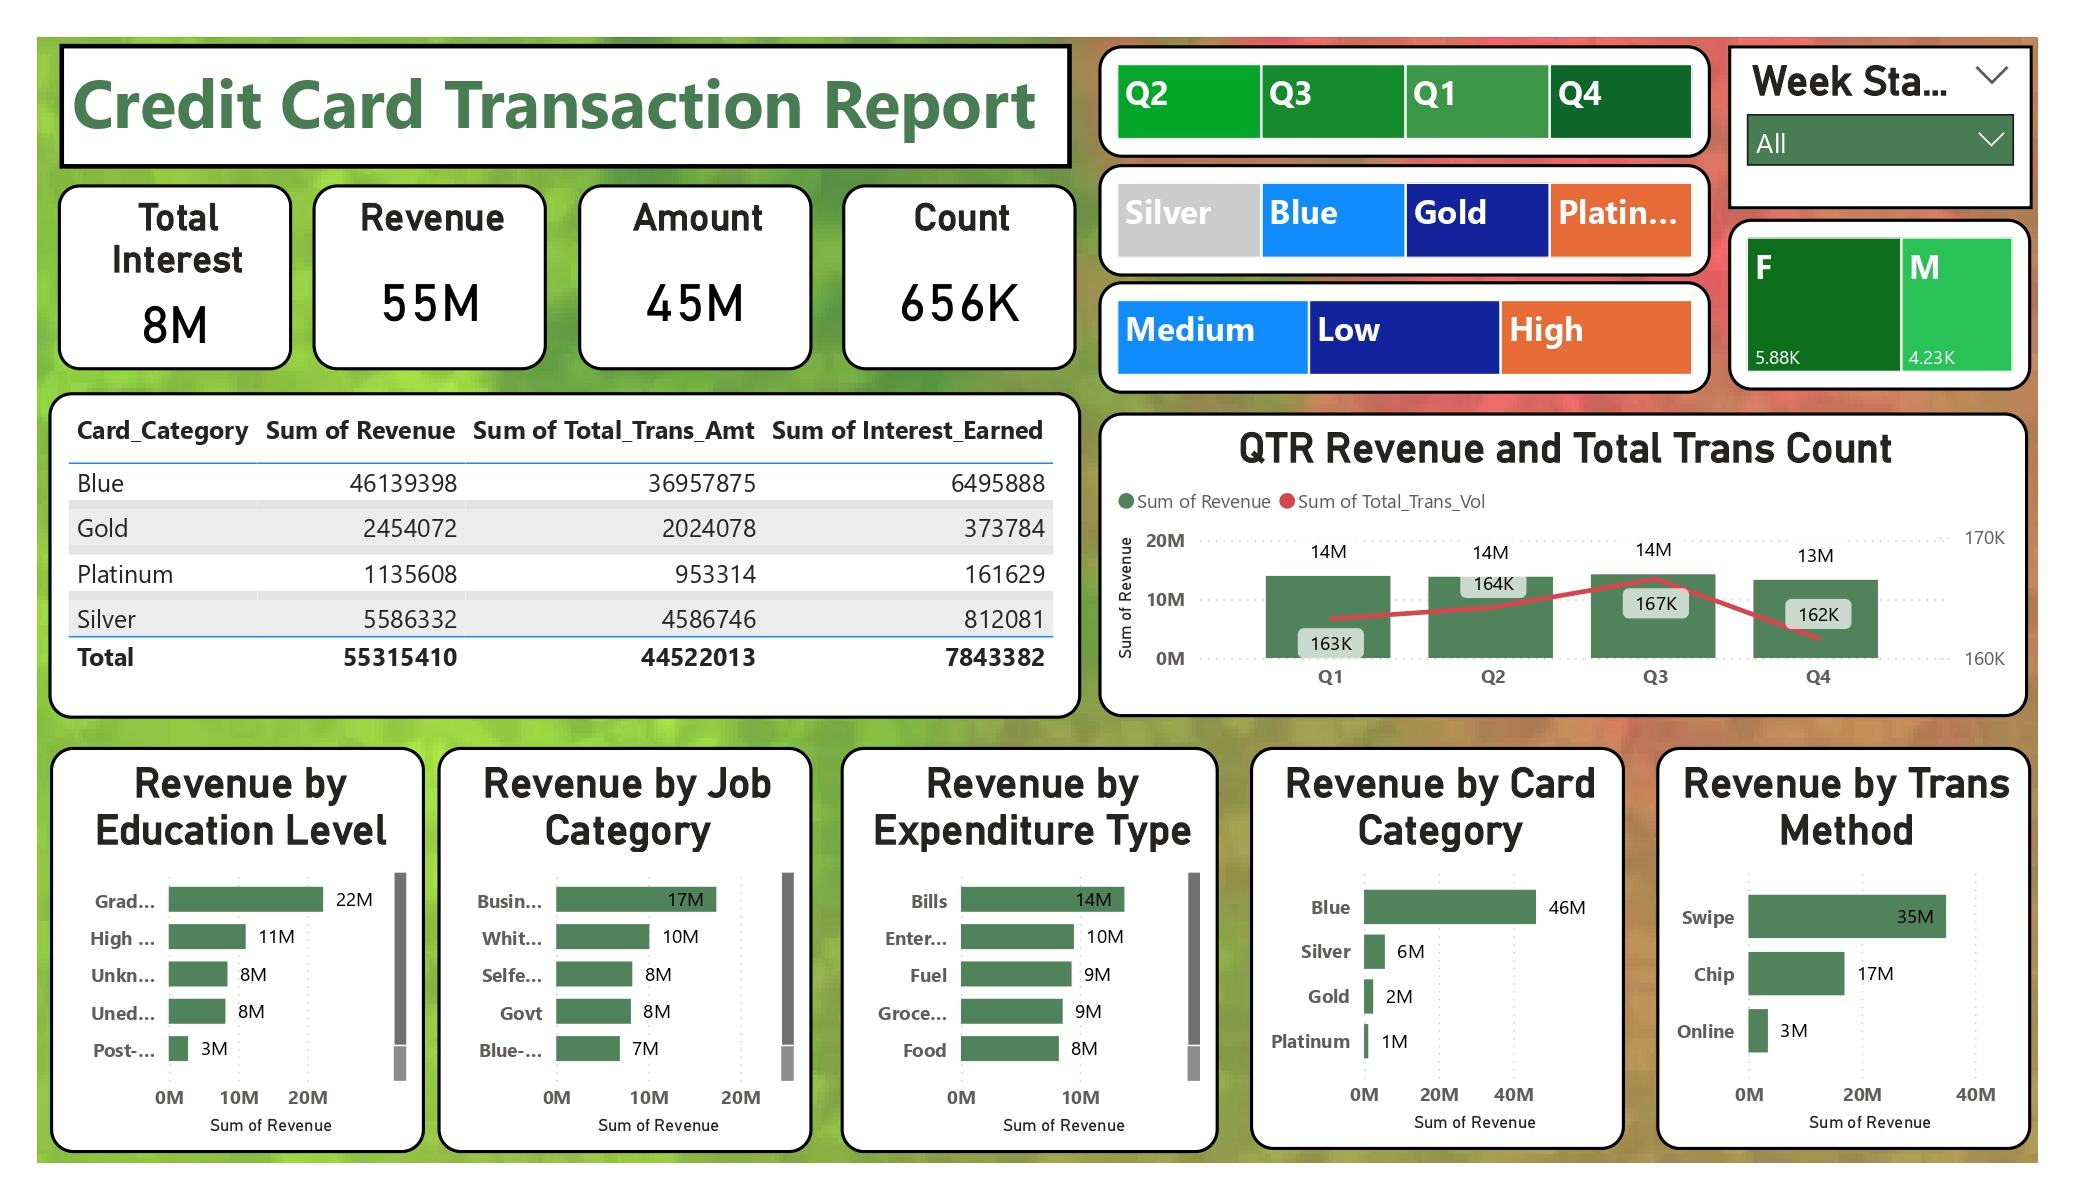

Layout of this report page (visuals, bound fields, positions):
{"tool":"powerbi","page":{"name":"Credit Card Transaction","canvas":[1280,720],"ordinal":0},"visuals":[{"type":"textbox","box":[14,4,648,80],"z":0},{"type":"lineStackedColumnComboChart","title":"QTR Revenue and Total Trans Count","fields":{"Category":["credit_card.Qtr"],"Y":["Sum(credit_card.Revenue)"],"Y2":["Sum(credit_card.Total_Trans_Vol)"]},"box":[679,240.3,595.2,195.2],"z":1000},{"type":"barChart","title":"Revenue by Expenditure Type","fields":{"Y":["Sum(credit_card.Revenue)"],"Category":["credit_card.Exp Type"]},"box":[514,454,242,260],"z":2000},{"type":"barChart","title":"Revenue by Education Level","fields":{"Y":["Sum(credit_card.Revenue)"],"Category":["customer.Education_Level"]},"box":[8,454,240,260],"z":3000},{"type":"barChart","title":"Revenue by Job Category","fields":{"Y":["Sum(credit_card.Revenue)"],"Category":["customer.Customer_Job"]},"box":[256,454,240,260],"z":4000},{"type":"barChart","title":"Revenue by Card Category","fields":{"Y":["Sum(credit_card.Revenue)"],"Category":["credit_card.Card_Category"]},"box":[776,454,240,258],"z":5000},{"type":"barChart","title":"Revenue by Trans Method","fields":{"Y":["Sum(credit_card.Revenue)"],"Category":["credit_card.Use Chip"]},"box":[1036,454,240,258],"z":6000},{"type":"tableEx","fields":{"Values":["credit_card.Card_Category","Sum(credit_card.Revenue)","Sum(credit_card.Total_Trans_Amt)","Sum(credit_card.Interest_Earned)"]},"box":[7.5,226.6,660.9,209.7],"z":7000},{"type":"card","title":"Revenue","fields":{"Values":["Sum(credit_card.Revenue)"]},"box":[176,93.6,149.8,119.8],"z":8000},{"type":"card","title":"Amount","fields":{"Values":["Sum(credit_card.Total_Trans_Amt)"]},"box":[346.4,93.6,149.8,119.8],"z":9000},{"type":"card","title":"Total Interest","fields":{"Values":["Sum(credit_card.Interest_Earned)"]},"box":[13.1,93.6,149.8,119.8],"z":10000},{"type":"card","title":"Count","fields":{"Values":["Sum(credit_card.Total_Trans_Vol)"]},"box":[514.9,93.6,149.8,119.8],"z":11000},{"type":"slicer","fields":{"Values":["credit_card.Week_Start_Date"]},"box":[1082.3,4.8,195.2,104.8],"z":12000},{"type":"treemap","fields":{"Group":["credit_card.Qtr"],"Values":["CountNonNull(credit_card.Client_Num)"]},"box":[679,4.8,391.9,72.6],"z":13000},{"type":"treemap","fields":{"Values":["CountNonNull(credit_card.Client_Num)"],"Group":["customer.Gender"]},"box":[1082,116,194,110],"z":14000},{"type":"treemap","fields":{"Values":["Avg(credit_card.Client_Num)"],"Group":["credit_card.Card_Category"]},"box":[679,80.6,391.9,72.6],"z":15000},{"type":"treemap","fields":{"Values":["Avg(credit_card.Client_Num)"],"Group":["customer.IncomeGroup"]},"box":[679,156.5,391.9,72],"z":16000}]}

Visuals, with their boxes in screenshot pixels (x1, y1, x2, y2):
textbox: l=59, t=44, r=1072, b=169
"QTR Revenue and Total Trans Count" lineStackedColumnComboChart: l=1098, t=413, r=2028, b=718
"Revenue by Expenditure Type" barChart: l=841, t=747, r=1219, b=1153
"Revenue by Education Level" barChart: l=50, t=747, r=425, b=1153
"Revenue by Job Category" barChart: l=438, t=747, r=812, b=1153
"Revenue by Card Category" barChart: l=1250, t=747, r=1625, b=1150
"Revenue by Trans Method" barChart: l=1656, t=747, r=2031, b=1150
tableEx - credit_card.Card_Category x Sum(credit_card.Revenue): l=49, t=392, r=1082, b=719
"Revenue" card: l=312, t=184, r=547, b=371
"Amount" card: l=579, t=184, r=813, b=371
"Total Interest" card: l=58, t=184, r=292, b=371
"Count" card: l=842, t=184, r=1076, b=371
slicer - credit_card.Week_Start_Date: l=1729, t=45, r=2034, b=209
treemap - credit_card.Qtr x CountNonNull(credit_card.Client_Num): l=1098, t=45, r=1711, b=158
treemap - CountNonNull(credit_card.Client_Num) x customer.Gender: l=1728, t=219, r=2031, b=391
treemap - Avg(credit_card.Client_Num) x credit_card.Card_Category: l=1098, t=163, r=1711, b=277
treemap - Avg(credit_card.Client_Num) x customer.IncomeGroup: l=1098, t=282, r=1711, b=395
